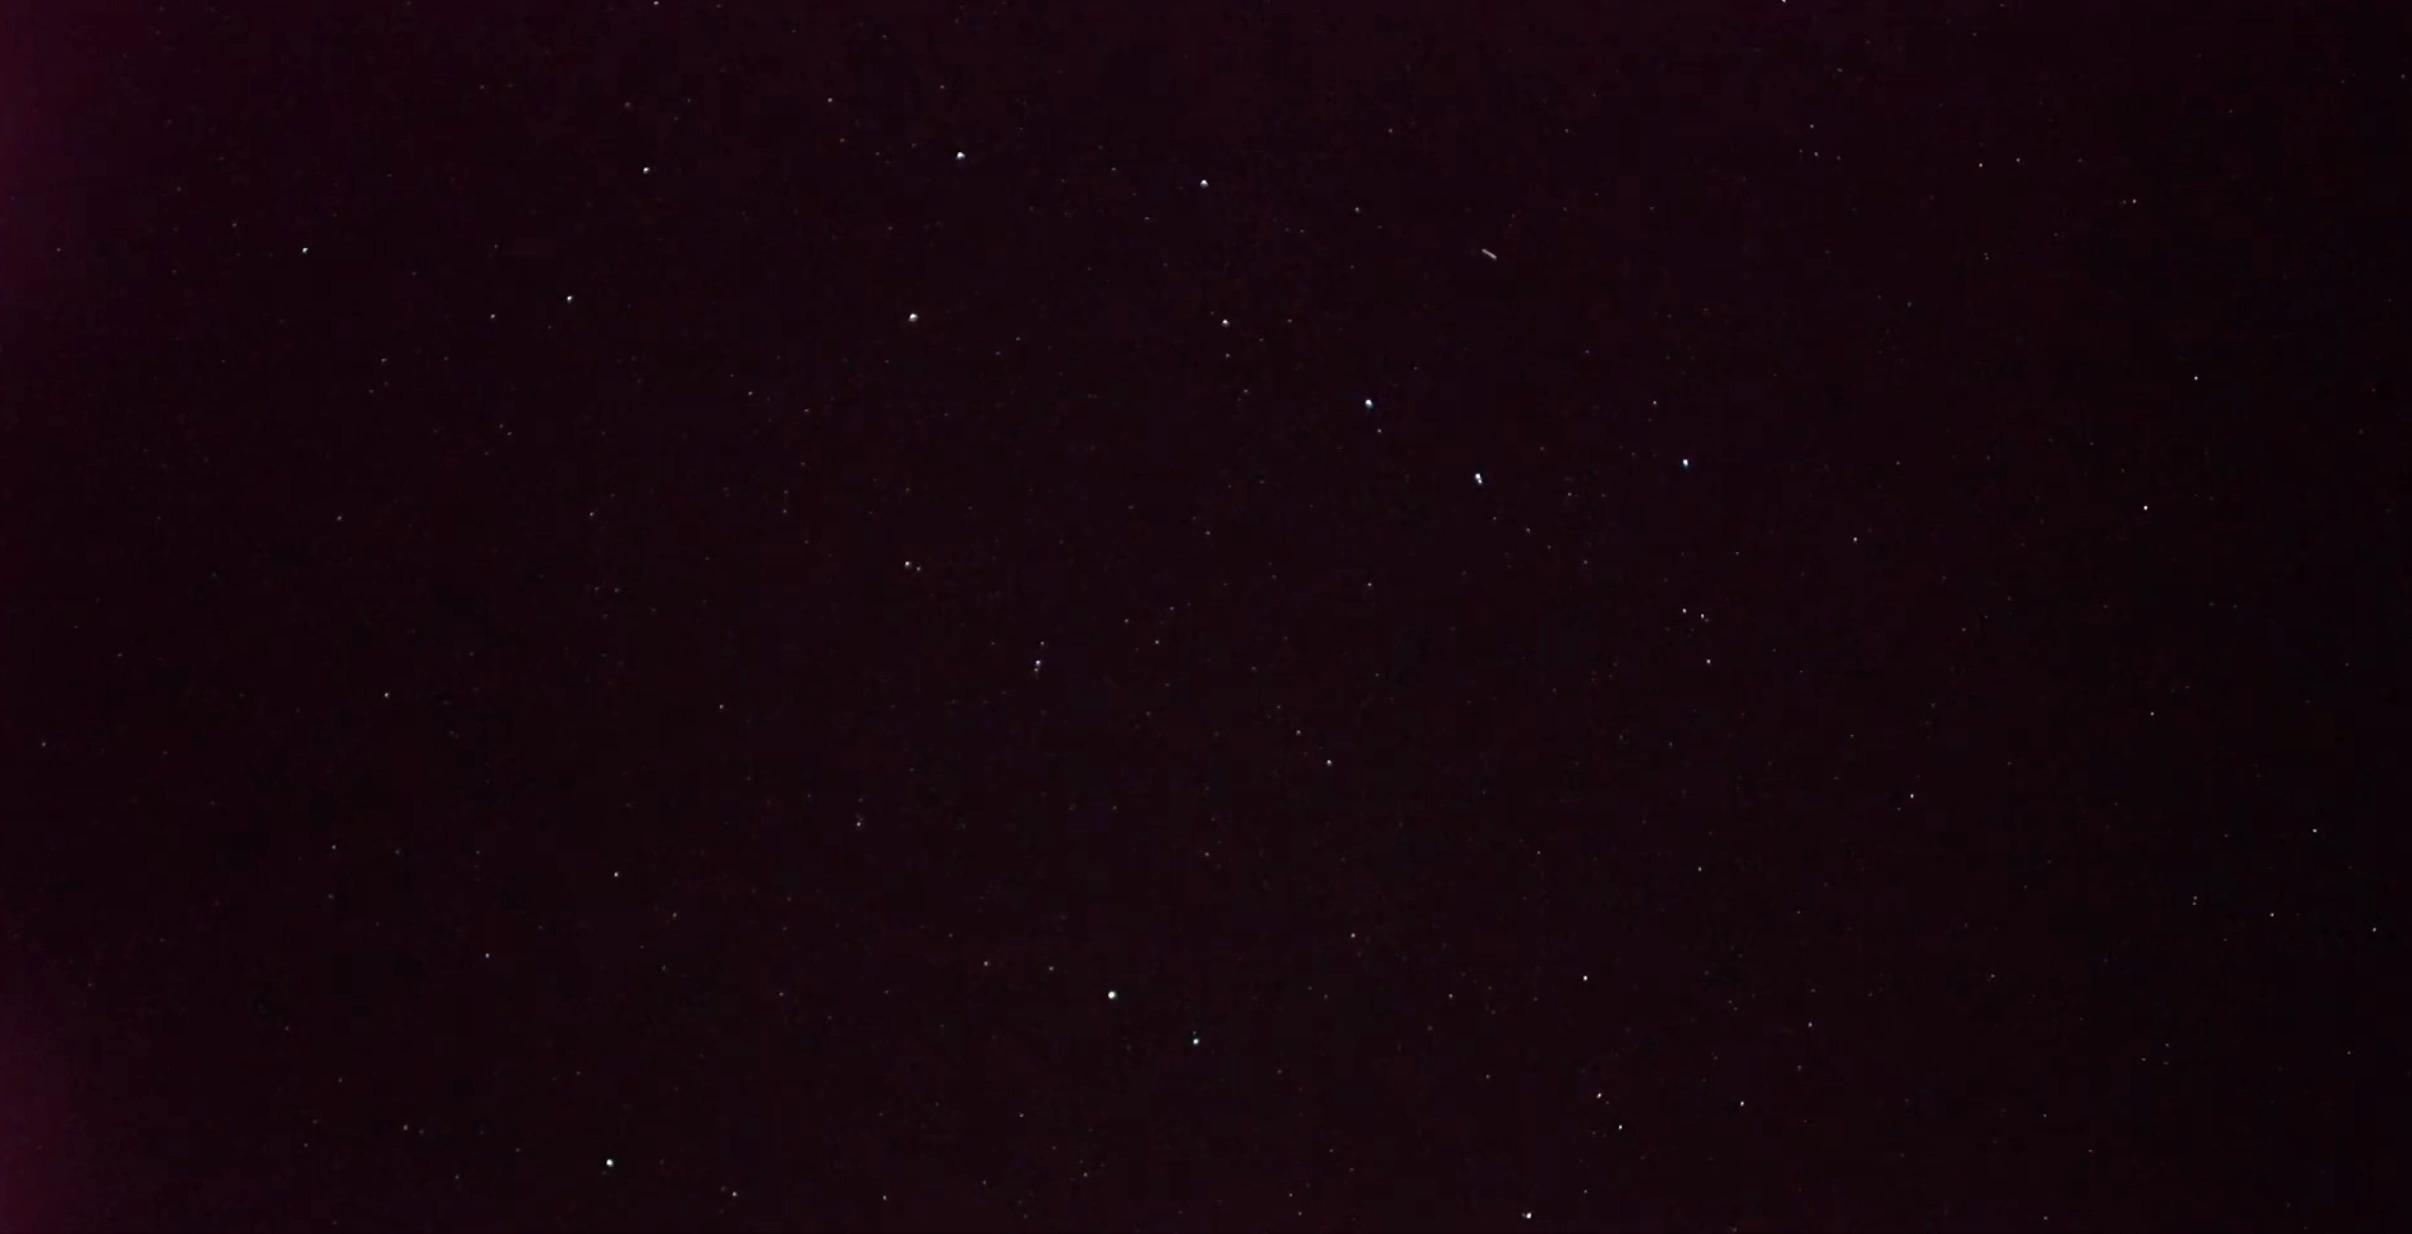meteorite: (1448, 228, 1509, 266)
